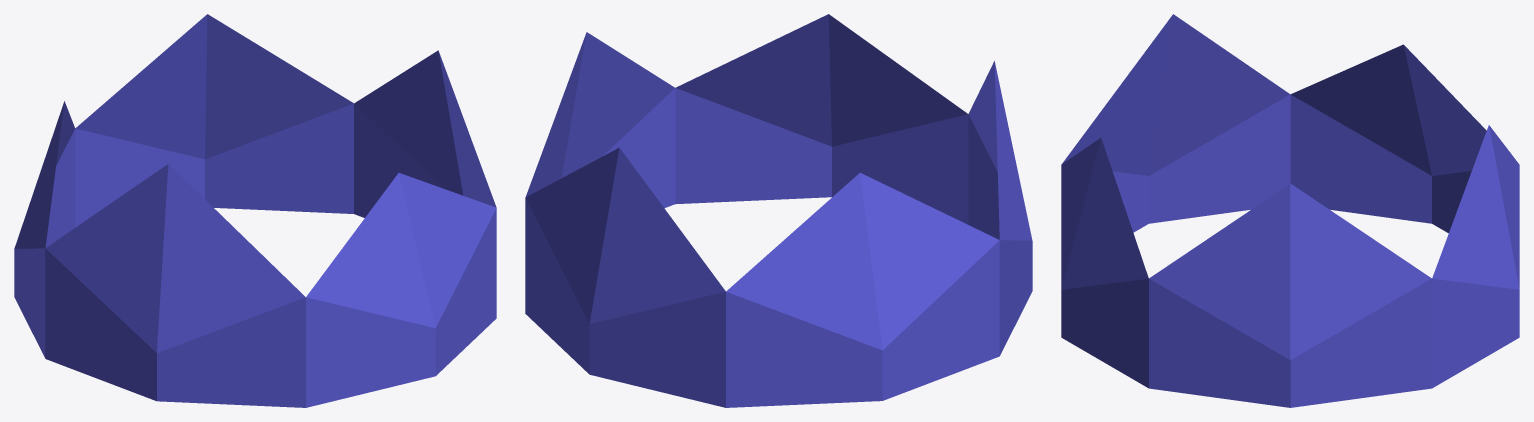
Rendered from Party_Hat_Blue.glb.
The picture shows the model from 3 angles, left to right: view 1: azimuth 30°, elevation 25°; view 2: azimuth 150°, elevation 25°; view 3: azimuth 270°, elevation 25°; orthographic projection. The views are drawn at different scales.
Parts seen in each view (by area): view 1: PartyHat; view 2: PartyHat; view 3: PartyHat.
Part boxes in pixels (x1,y1,x2,y2): PartyHat: (14,14,496,407); PartyHat: (525,14,1032,407); PartyHat: (1061,14,1519,407).
Bounding box in the file's own units: 0.32 × 0.1622 × 0.3043.
